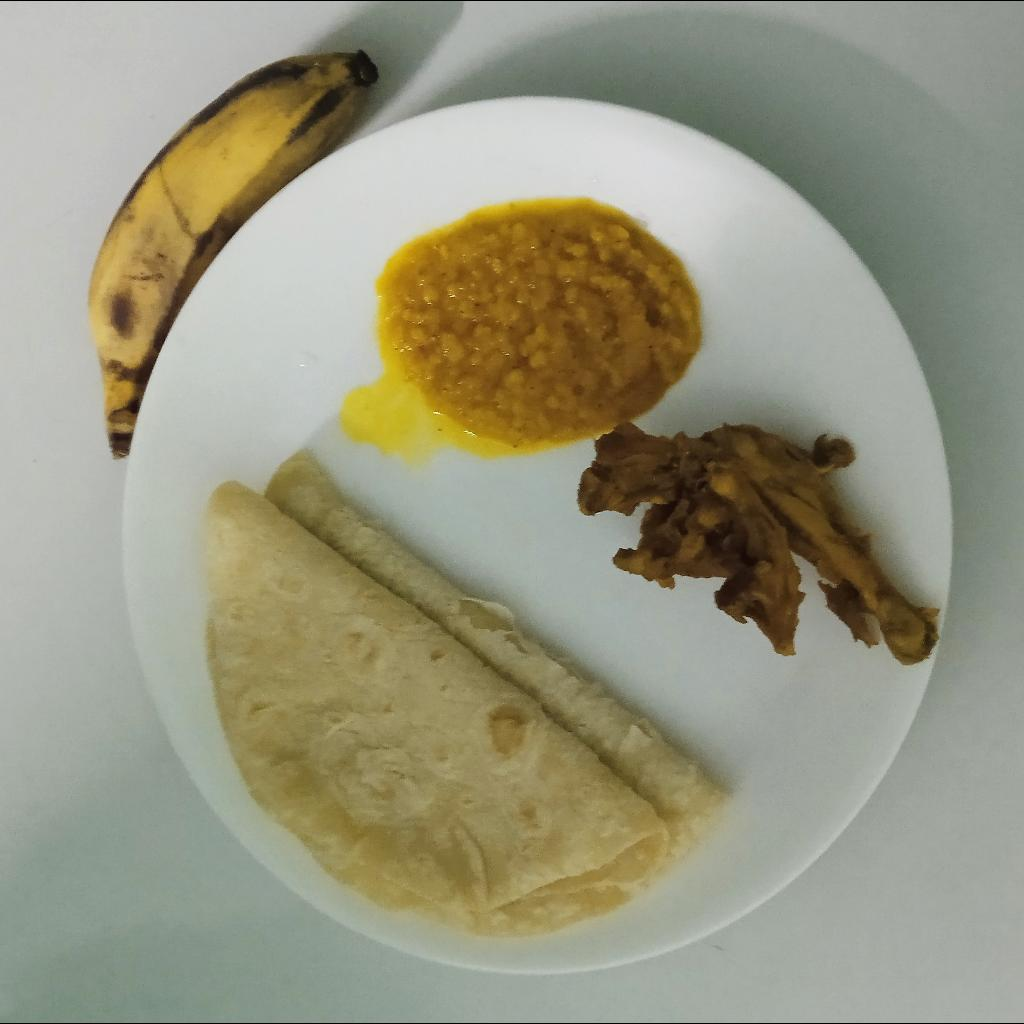banana: (86, 49, 384, 458)
chicken: (578, 423, 941, 666)
daal: (384, 209, 705, 448)
ruti: (201, 448, 733, 939)
